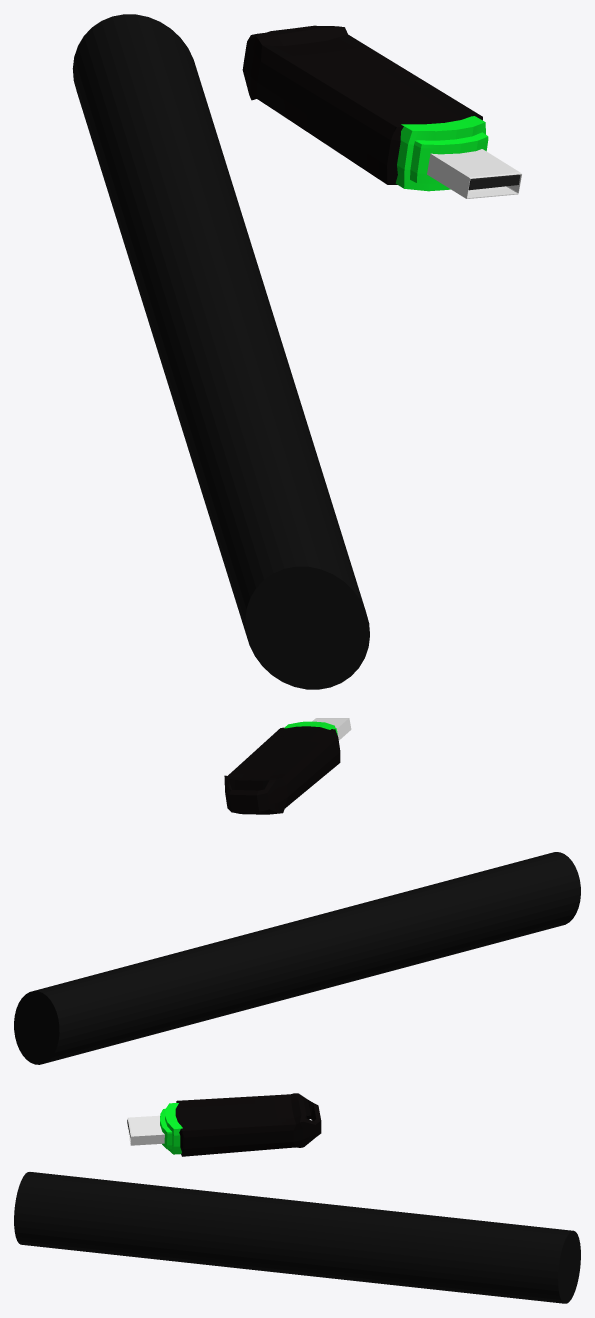
File: flash_disc.glb
3 renders of one model, top to bottom at view 1: azimuth 30°, elevation 25°; view 2: azimuth 150°, elevation 25°; view 3: azimuth 270°, elevation 25°, orthographic. The views are drawn at different scales.
Parts seen in each view (by area): view 1: Cylinder, Cube, Cube.001, Cube.002; view 2: Cylinder, Cube; view 3: Cylinder, Cube, Cube.002, Cube.001.
Part boxes in pixels (x1=…): Cylinder: x1=72, y1=14, x2=369, y2=689; Cube: x1=242, y1=25, x2=482, y2=184; Cube.001: x1=395, y1=116, x2=488, y2=191; Cube.002: x1=427, y1=149, x2=521, y2=198; Cylinder: x1=14, y1=852, x2=580, y2=1064; Cube: x1=224, y1=726, x2=340, y2=814; Cylinder: x1=14, y1=1172, x2=580, y2=1303; Cube: x1=175, y1=1093, x2=321, y2=1156; Cube.002: x1=127, y1=1115, x2=164, y2=1145; Cube.001: x1=160, y1=1103, x2=182, y2=1154.
Size of the model in its own units: 3.31 by 2.68 by 6.85.
